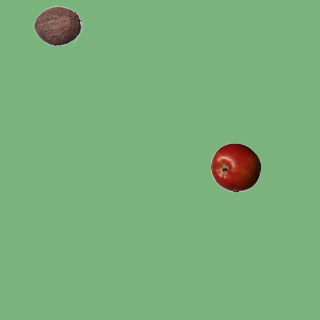Apple Braeburn: (210, 142, 260, 192)
Cocos: (32, 0, 82, 50)
